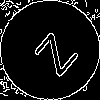Z: (25, 25, 80, 78)
